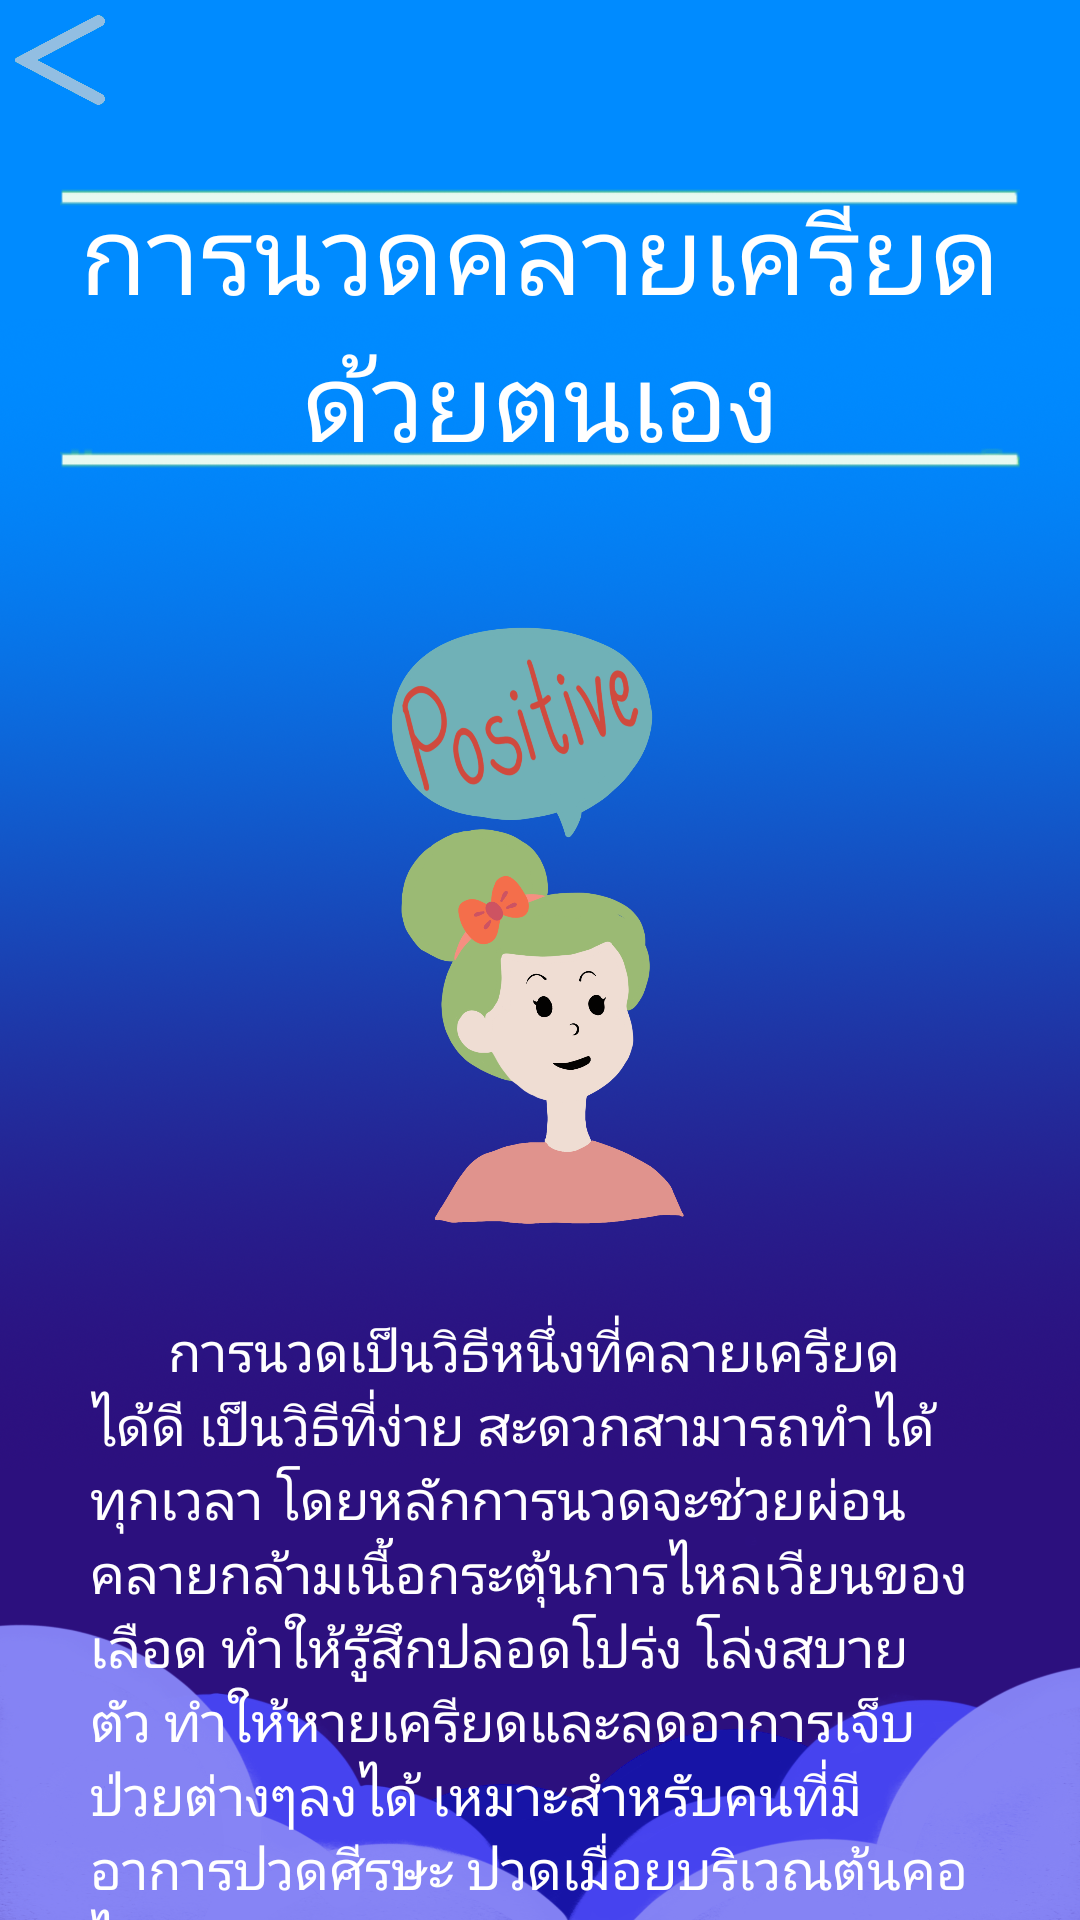

Icon click points for this 1080×1920 phone screenshot, format (x=x, y=y):
backbut: (x=60, y=60)
